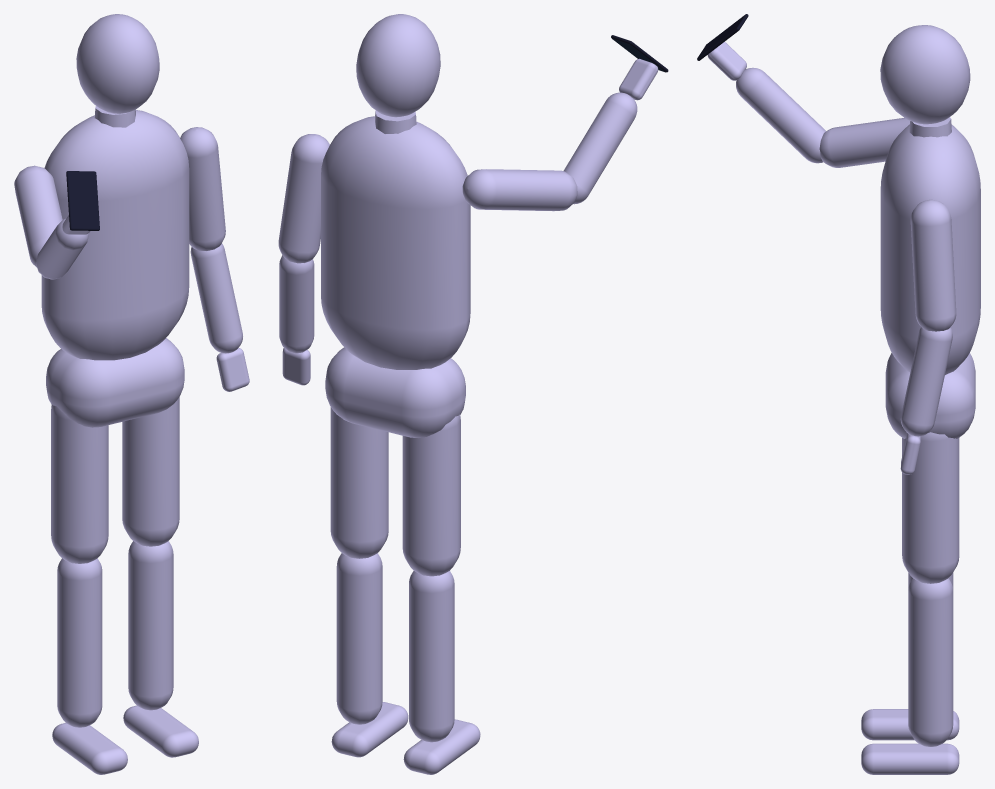
File: mannequin-scan.glb
The picture shows the model from 3 angles, left to right: view 1: azimuth 30°, elevation 25°; view 2: azimuth 150°, elevation 25°; view 3: azimuth 270°, elevation 25°; orthographic projection.
Parts seen in each view (by area): view 1: chest, pelvis, thighR, thighL, shinR, shinL, headMesh, upperArmL, foreArmL, upperArmR, footR, footL (+4 smaller); view 2: chest, pelvis, thighR, shinL, thighL, shinR, headMesh, upperArmL, upperArmR, foreArmR, foreArmL, footL (+4 smaller); view 3: chest, thighL, shinL, headMesh, upperArmL, pelvis, foreArmR, foreArmL, upperArmR, footL, footR, handR (+3 smaller).
Boxes of the visible parts, left/top/right/bottom form: chest: left=41, top=110, right=189, bottom=360; pelvis: left=46, top=338, right=184, bottom=427; thighR: left=51, top=404, right=108, bottom=563; thighL: left=122, top=397, right=179, bottom=546; shinR: left=57, top=558, right=102, bottom=727; shinL: left=128, top=541, right=173, bottom=710; headMesh: left=76, top=14, right=159, bottom=113; upperArmL: left=180, top=127, right=225, bottom=250; foreArmL: left=190, top=243, right=242, bottom=353; upperArmR: left=14, top=165, right=62, bottom=267; footR: left=52, top=723, right=127, bottom=774; footL: left=123, top=705, right=198, bottom=757; chest: left=321, top=116, right=470, bottom=369; pelvis: left=325, top=347, right=465, bottom=437; thighR: left=402, top=414, right=460, bottom=576; shinL: left=336, top=553, right=382, bottom=724; thighL: left=330, top=407, right=388, bottom=558; shinR: left=409, top=571, right=454, bottom=742; headMesh: left=356, top=14, right=440, bottom=117; upperArmL: left=278, top=134, right=329, bottom=263; upperArmR: left=462, top=169, right=577, bottom=211; foreArmR: left=563, top=92, right=637, bottom=204; foreArmL: left=279, top=255, right=314, bottom=353; footL: left=331, top=702, right=408, bottom=757; chest: left=880, top=124, right=980, bottom=374; thighL: left=902, top=432, right=959, bottom=583; shinL: left=908, top=578, right=953, bottom=746; headMesh: left=880, top=25, right=970, bottom=124; upperArmL: left=910, top=199, right=956, bottom=331; pelvis: left=885, top=353, right=975, bottom=438; foreArmR: left=736, top=67, right=825, bottom=163; foreArmL: left=900, top=327, right=952, bottom=436; upperArmR: left=819, top=117, right=909, bottom=167; footL: left=861, top=743, right=959, bottom=774; footR: left=861, top=709, right=959, bottom=740; handR: left=707, top=41, right=746, bottom=80.
Size of the model in its own units: 0.7838 by 1.95 by 0.6933.
